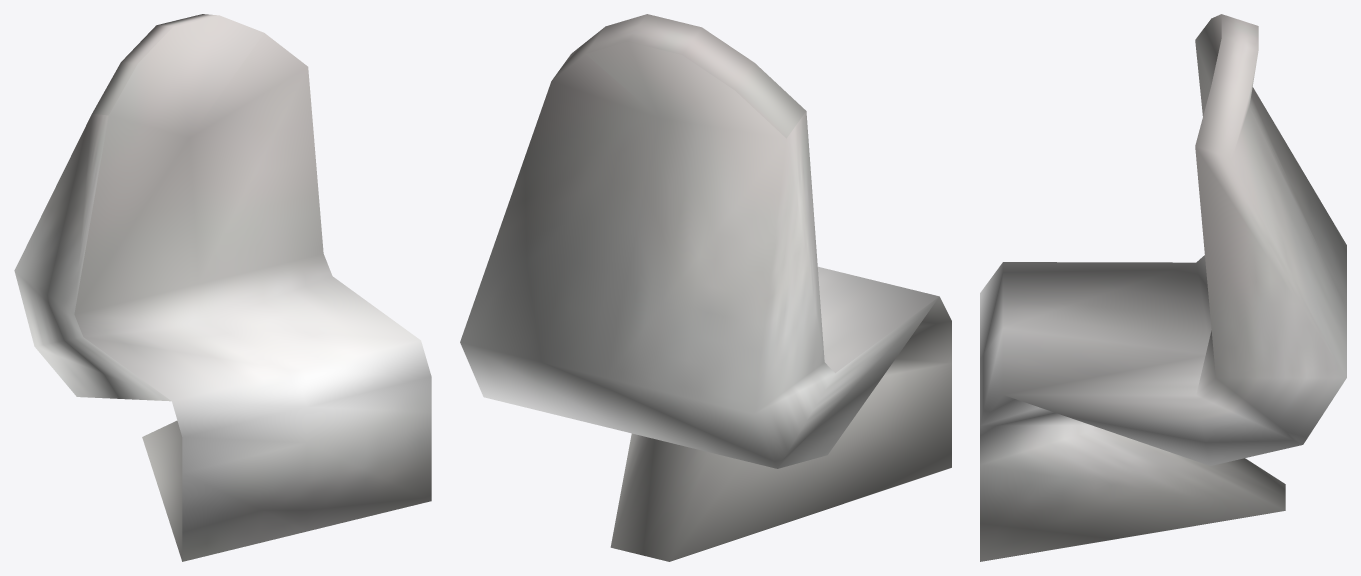
The model's file is chair.glb.
3 renders of one model, left to right at view 1: azimuth 30°, elevation 25°; view 2: azimuth 150°, elevation 25°; view 3: azimuth 270°, elevation 25°, orthographic. The views are drawn at different scales.
Visible parts, largest first — view 1: Chair; view 2: Chair; view 3: Chair.
Boxes of the visible parts, x1,y1,x2,y2 form: Chair: (14, 14, 431, 561); Chair: (460, 14, 951, 561); Chair: (980, 14, 1346, 561).
Bounding box in the file's own units: 1.44 × 2.38 × 1.68.
Materials: 1 (1 with a texture image).
